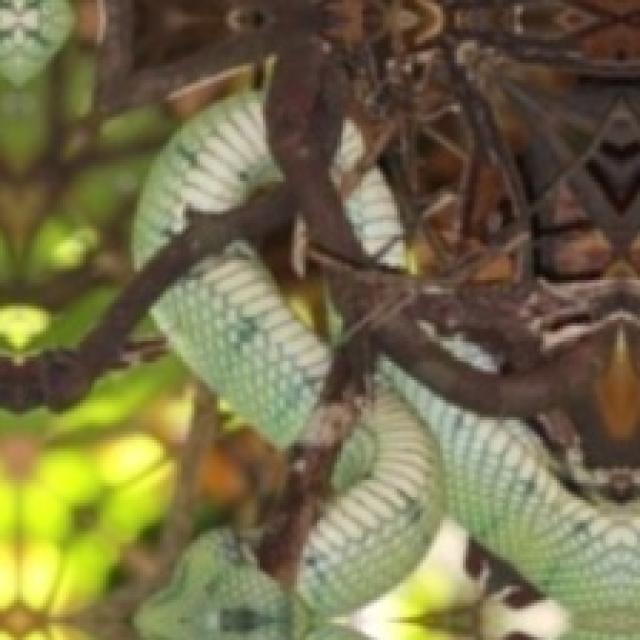north ph temple pitviper: (297, 360, 637, 637), (151, 243, 329, 446), (134, 91, 277, 263), (137, 529, 306, 637)
